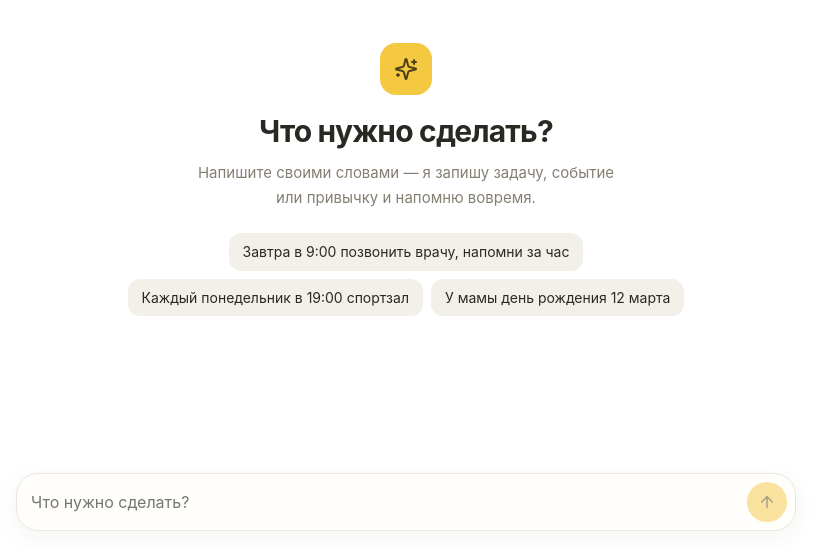
keeps manual planning available when the model request fails
Type "План" into the text box named "Сообщение помощнику" at (385, 502), box [31,482,739,522]
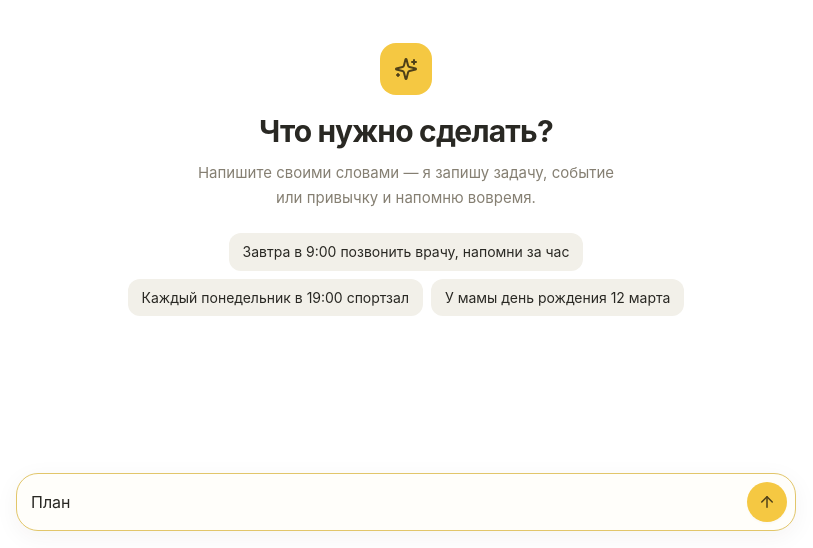
Click the button named "Отправить сообщение" at (767, 502), box [747,482,787,522]
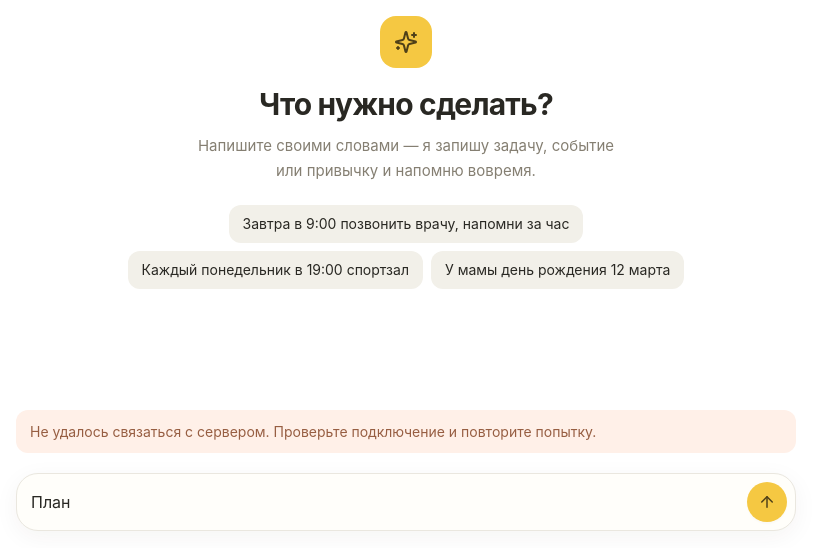
Now the button named "Отправить сообщение" is enabled, box [747,482,787,522]
Now the message "Не удалось связаться с сервером. Проверьте подключение и повторите попытку." is shown, box [16,410,796,453]
